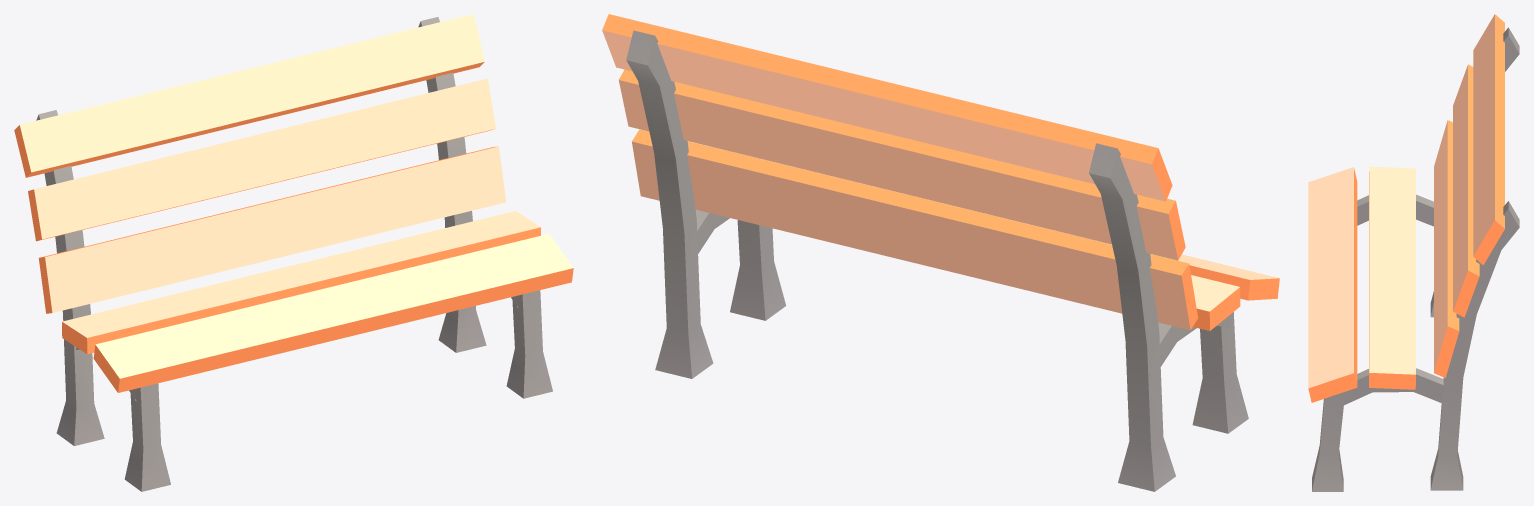
The model's file is city2-bench-01.glb.
The picture shows the model from 3 angles, left to right: view 1: azimuth 30°, elevation 25°; view 2: azimuth 150°, elevation 25°; view 3: azimuth 270°, elevation 25°; orthographic projection. The views are drawn at different scales.
Parts seen in each view (by area): view 1: Bench_01; view 2: Bench_01; view 3: Bench_01.
Part boxes in pixels (x1,y1,x2,y2): Bench_01: [14, 14, 573, 491]; Bench_01: [602, 14, 1279, 491]; Bench_01: [1308, 14, 1519, 491].
Bounding box in the file's own units: 1.7 × 1.08 × 0.7362.
Materials: 1 (1 with a texture image).
